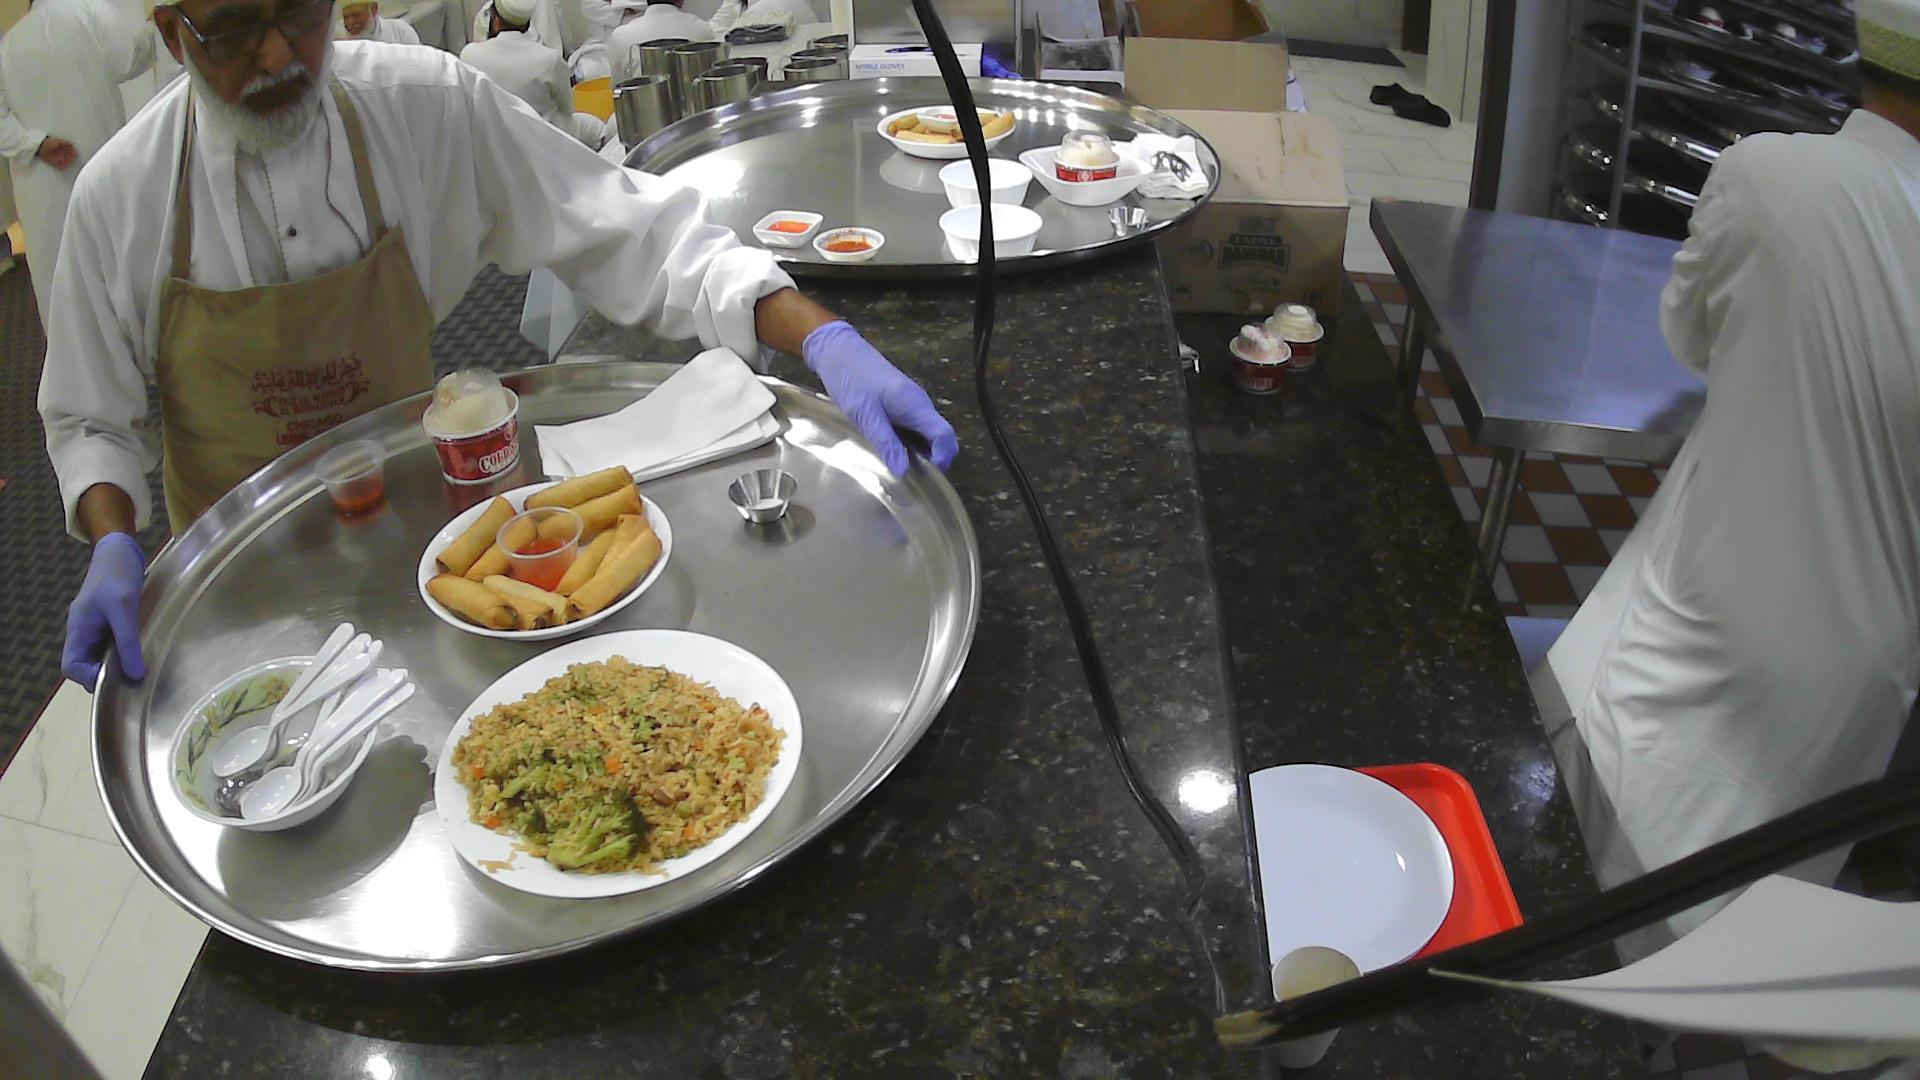thaal: (90, 352, 988, 988), (608, 69, 1225, 282)
